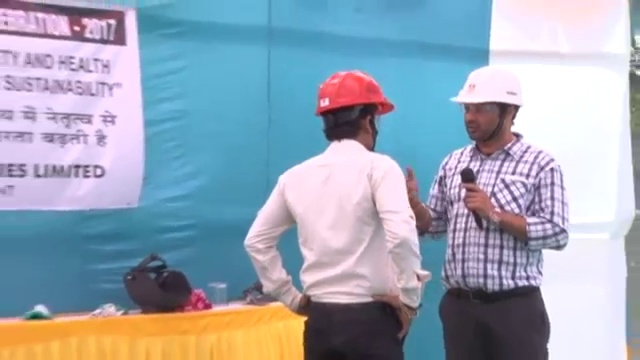helmet: (315, 69, 395, 115), (450, 64, 526, 111)
helmet_on: (314, 69, 395, 152), (449, 64, 527, 147)
person: (242, 69, 426, 360), (406, 65, 572, 360)
